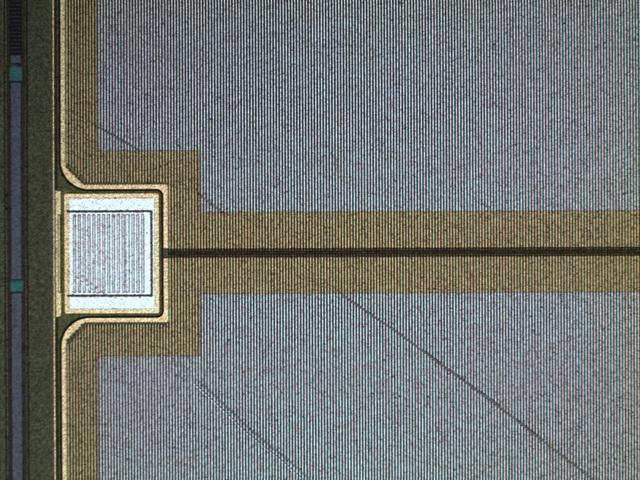SCRATCH: (60, 100, 601, 480), (149, 350, 320, 480)
